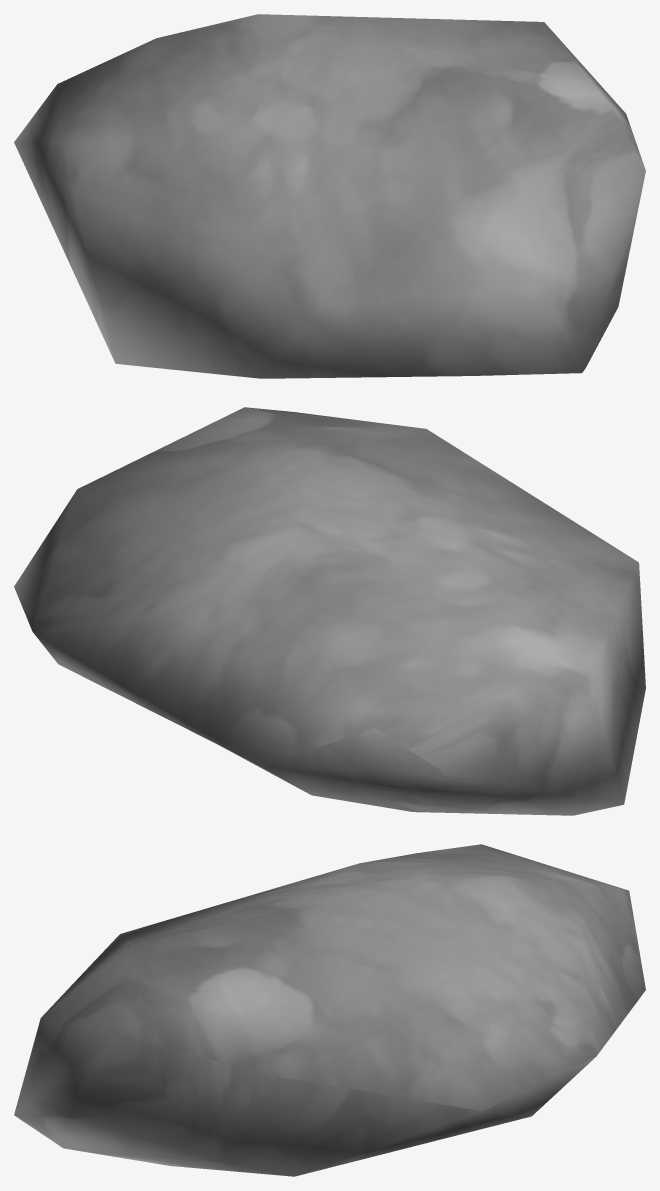
The model's file is SM_Pebble_02a.fbx.
3 renders of one model, top to bottom at view 1: azimuth 30°, elevation 25°; view 2: azimuth 150°, elevation 25°; view 3: azimuth 270°, elevation 25°, orthographic. The views are drawn at different scales.
Parts seen in each view (by area): view 1: SM_Pebble_02a_LOD0; view 2: SM_Pebble_02a_LOD0; view 3: SM_Pebble_02a_LOD0.
Boxes of the visible parts, bbox=[...] form: SM_Pebble_02a_LOD0: bbox=[14, 14, 645, 378]; SM_Pebble_02a_LOD0: bbox=[14, 407, 645, 815]; SM_Pebble_02a_LOD0: bbox=[14, 844, 645, 1176].
Bounding box in the file's own units: 31.5 × 34.7 × 14.45.
